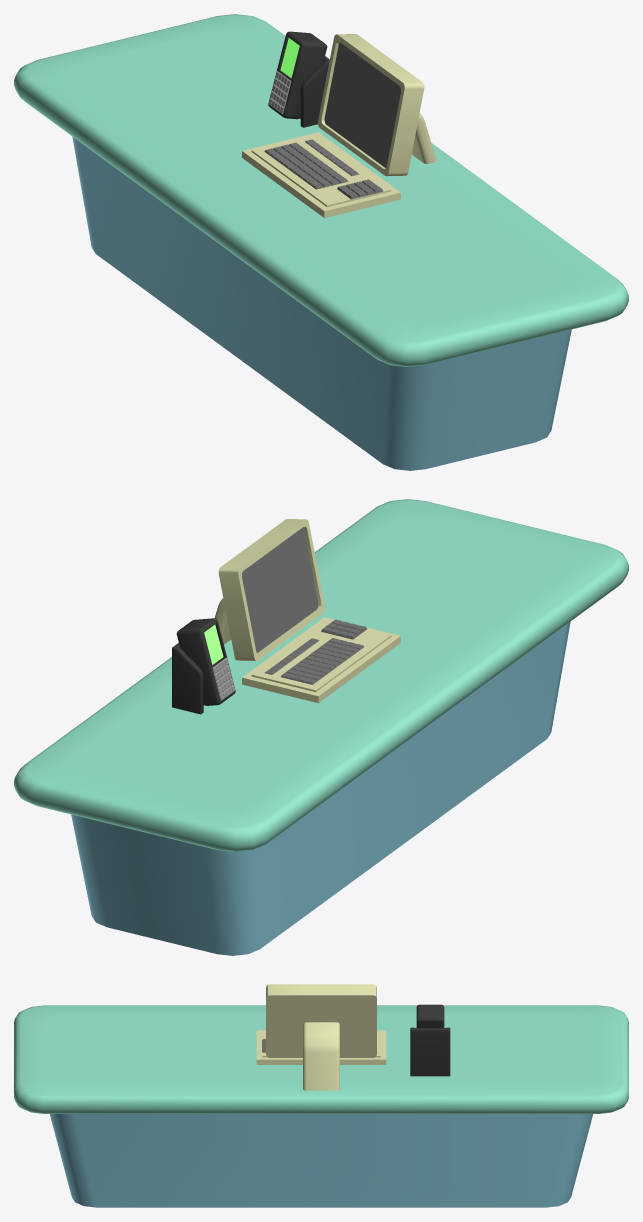
File: florist_kasa.fbx
3 views of the same model, one above another, from view 1: azimuth 30°, elevation 25°; view 2: azimuth 150°, elevation 25°; view 3: azimuth 270°, elevation 25° (orthographic). The views are drawn at different scales.
Visible parts, largest first — view 1: Kasa, Cube.001, Cube.002, Cube.003; view 2: Kasa, Cube.001, Cube.002, Cube.003; view 3: Kasa, Cube.001, Cube.003, Cube.002.
Part boxes in pixels (bbox=[...]): Kasa: bbox=[14, 14, 628, 470]; Cube.001: bbox=[318, 34, 436, 176]; Cube.002: bbox=[242, 132, 400, 217]; Cube.003: bbox=[268, 31, 329, 127]; Kasa: bbox=[14, 499, 628, 955]; Cube.001: bbox=[214, 519, 324, 661]; Cube.002: bbox=[242, 617, 400, 702]; Cube.003: bbox=[172, 618, 235, 714]; Kasa: bbox=[14, 1005, 628, 1207]; Cube.001: bbox=[266, 984, 376, 1090]; Cube.003: bbox=[410, 1004, 450, 1076]; Cube.002: bbox=[256, 1030, 386, 1064].
Bounding box in the file's own units: 0.8105 × 0.8367 × 2.22.
